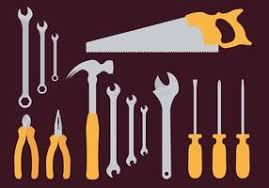wrench: (150, 69, 180, 179), (104, 80, 121, 178), (123, 93, 138, 166), (138, 103, 149, 155)
